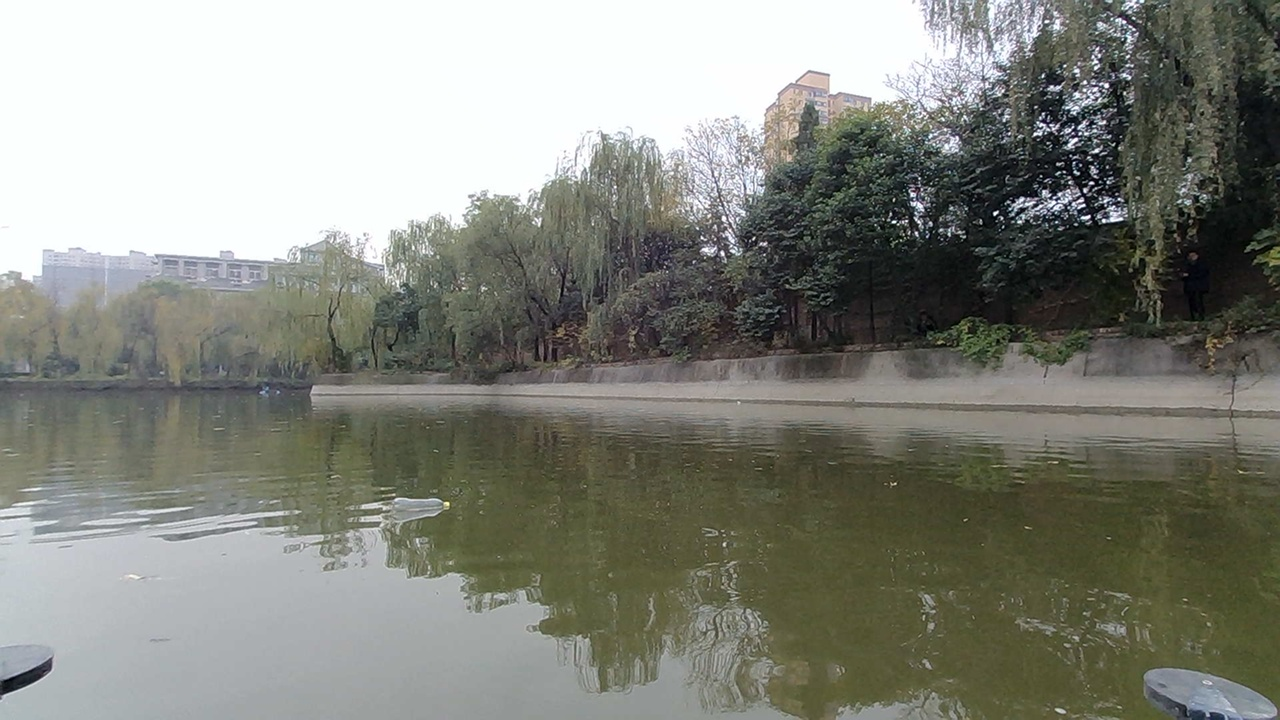bottle: (368, 477, 460, 532)
